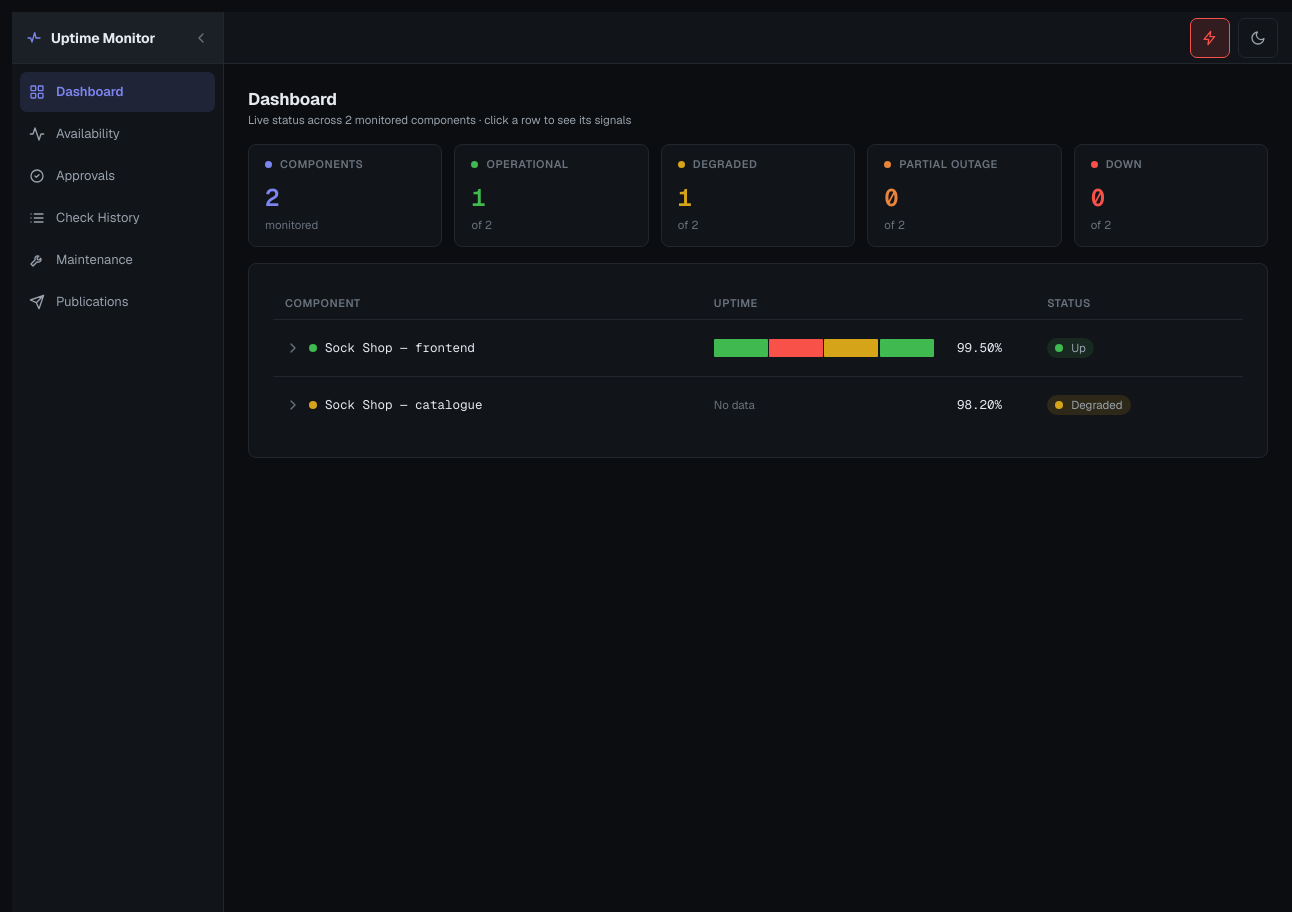
Test: AppShell — sidebar collapse (STORY-056 AC1) › starts expanded by default and collapses/expands via the header toggle
Click the button with aria-label "Collapse sidebar".
click(118, 38)  # box [12,12,223,64]
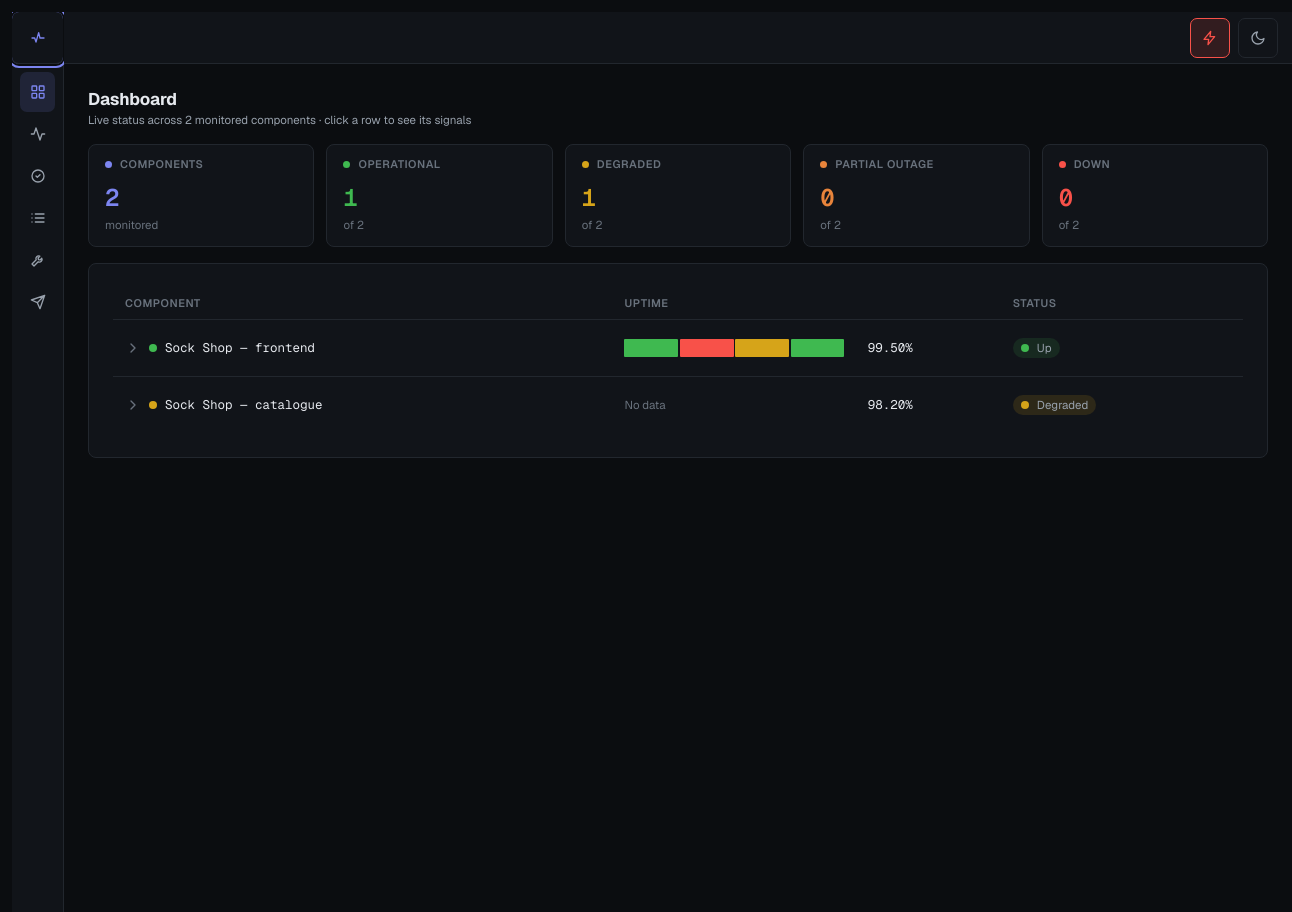
expect the link named "Dashboard" is shown: met, box [20,72,55,112]
expect the button named "Expand sidebar" is collapsed: met, box [12,12,63,64]
